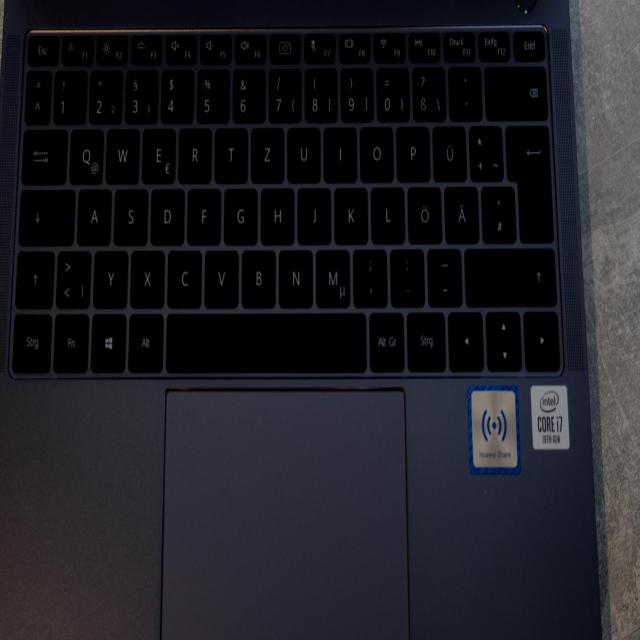0: (375, 63, 409, 119)
1: (52, 66, 86, 121)
2: (88, 67, 121, 121)
3: (123, 66, 157, 121)
4: (160, 67, 193, 121)
5: (195, 66, 229, 121)
6: (231, 66, 265, 120)
7: (267, 65, 301, 120)
8: (303, 65, 336, 121)
9: (339, 64, 373, 119)
a: (76, 185, 110, 243)
accent: (447, 62, 481, 118)
ae: (443, 182, 479, 241)
alt-left: (127, 310, 162, 370)
altgr-right: (368, 308, 403, 369)
b: (240, 247, 275, 306)
c: (166, 247, 201, 306)
caret: (24, 67, 51, 121)
comma: (352, 245, 386, 305)
d: (149, 185, 184, 244)
del: (484, 62, 547, 118)
e: (140, 124, 175, 181)
enter: (505, 121, 553, 241)
f: (186, 184, 220, 242)
g: (222, 185, 257, 242)
h: (260, 184, 294, 242)
hash: (480, 182, 515, 240)
i: (322, 123, 356, 179)
j: (296, 184, 330, 242)
k: (333, 183, 367, 242)
keyboard: (3, 16, 570, 388)
l: (370, 183, 404, 241)
less: (55, 246, 90, 306)
m: (467, 382, 520, 470), (314, 245, 349, 305)
minus: (425, 245, 461, 304)
n: (277, 246, 312, 305)
o: (358, 124, 393, 180)
oe: (406, 183, 442, 242)
p: (395, 123, 429, 180)
plus: (468, 121, 502, 178)
point: (389, 245, 424, 303)
q: (68, 125, 103, 182)
r: (177, 125, 211, 182)
s: (112, 185, 147, 243)
shift-left: (14, 248, 53, 306)
shift-lock: (18, 185, 74, 243)
shift-right: (463, 243, 556, 304)
space: (164, 308, 365, 370)
ss: (410, 63, 445, 119)
strg-left: (10, 309, 51, 371)
strg-right: (406, 307, 446, 368)
t: (213, 124, 247, 180)
tab: (20, 125, 66, 183)
u: (285, 123, 320, 181)
ue: (431, 123, 466, 180)
v: (203, 247, 238, 306)
w: (105, 124, 139, 181)
x: (129, 247, 164, 306)
y: (92, 247, 127, 306)
z: (250, 124, 284, 181)
